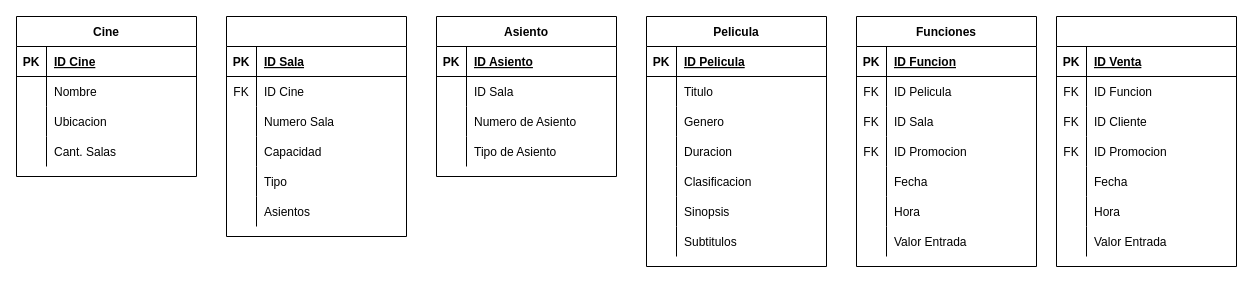
The diagram is 1253 pixels wide and 283 high, and some of its shapes have lost their labels. Each missing label, with the box of its shape:
Salas: (226, 16, 406, 236)
Venta Entradas: (1056, 16, 1236, 266)
